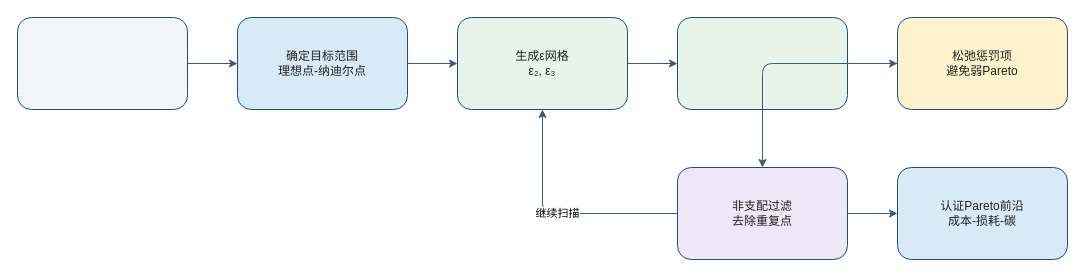
Image size: 1085x277. Some labels were removed from this diagram. Each missing label, with the centre of its shape:
主目标最小化 加入ε约束: the point at 762,63
单目标锚点 成本/损耗/碳: the point at 102,63
